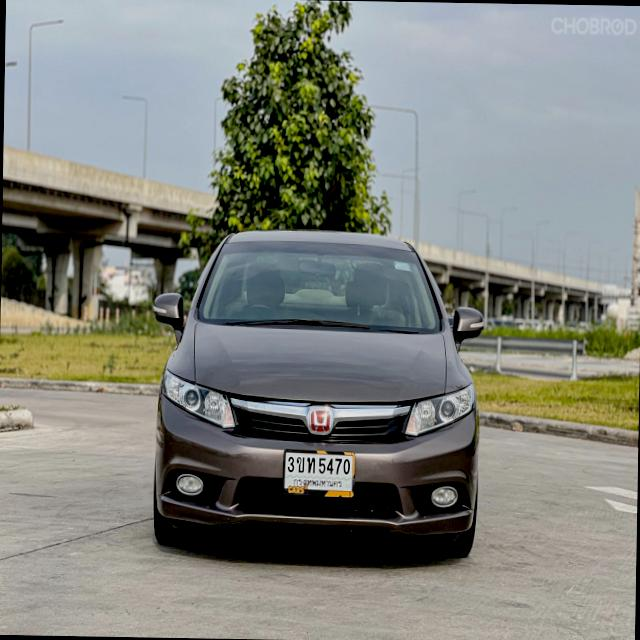license_plate: (279, 443, 358, 506)
